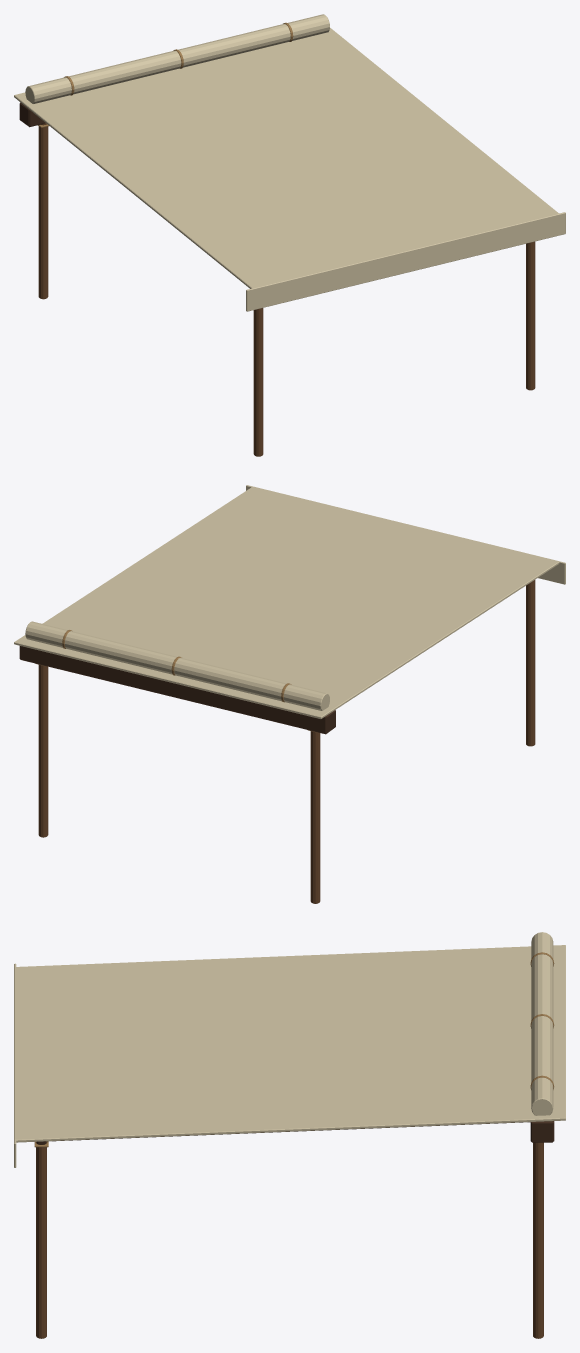
Rendered from sun_shelter.glb.
3 views of the same model, one above another, from view 1: azimuth 30°, elevation 25°; view 2: azimuth 150°, elevation 25°; view 3: azimuth 270°, elevation 25° (orthographic). The views are drawn at different scales.
Parts seen in each view (by area): view 1: sun_shelter_roof, sun_shelter_roll, sun_shelter; view 2: sun_shelter_roof, sun_shelter, sun_shelter_roll; view 3: sun_shelter_roof, sun_shelter, sun_shelter_roll.
Boxes of the visible parts, x1,y1,x2,y2 form: sun_shelter_roof: [14, 28, 565, 311]; sun_shelter_roll: [25, 14, 329, 103]; sun_shelter: [19, 102, 535, 456]; sun_shelter_roof: [14, 485, 565, 718]; sun_shelter: [19, 580, 535, 903]; sun_shelter_roll: [25, 621, 329, 710]; sun_shelter_roof: [14, 945, 565, 1167]; sun_shelter: [34, 1121, 554, 1338]; sun_shelter_roll: [530, 932, 554, 1115].
Size of the model in its own units: 5.4 by 3.44 by 7.
